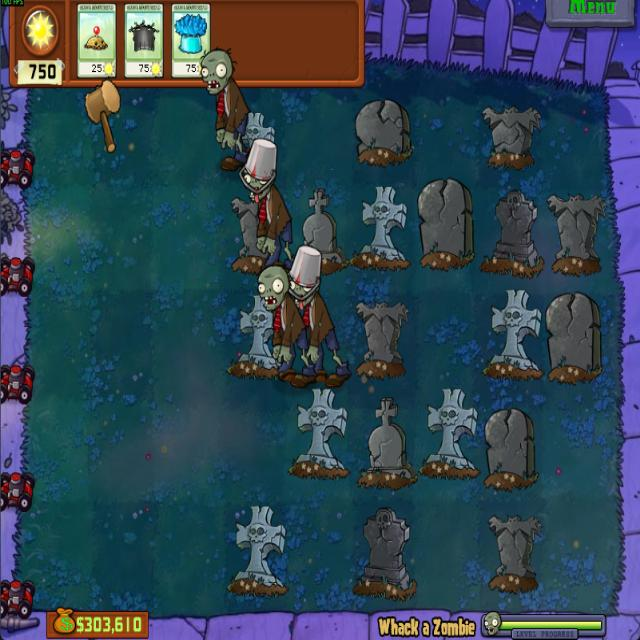buckethead: (236, 139, 282, 204), (286, 244, 324, 309)
grave: (354, 506, 416, 604), (287, 388, 350, 482), (358, 397, 419, 494), (227, 503, 288, 596), (484, 289, 546, 380), (421, 387, 480, 480), (417, 180, 476, 270), (480, 191, 543, 275), (348, 188, 411, 268), (546, 292, 604, 378), (548, 193, 606, 275), (486, 512, 542, 594), (482, 407, 536, 489), (481, 100, 544, 170), (355, 300, 410, 380), (354, 98, 412, 166), (298, 188, 344, 266), (235, 294, 278, 376), (227, 196, 266, 272), (240, 109, 277, 150)
gravebuster: (123, 3, 164, 77)
zombie: (198, 49, 234, 96), (257, 262, 287, 310)
